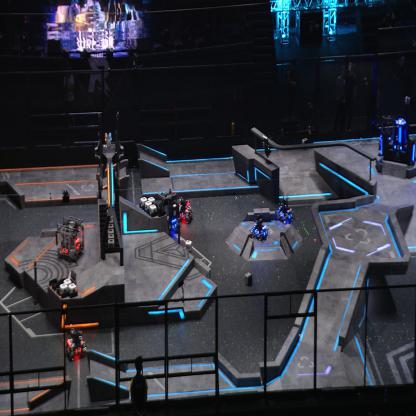car: (54, 213, 84, 262), (157, 189, 181, 233), (65, 327, 87, 362), (378, 113, 398, 151), (273, 196, 294, 224), (174, 195, 193, 224), (250, 212, 269, 241)
